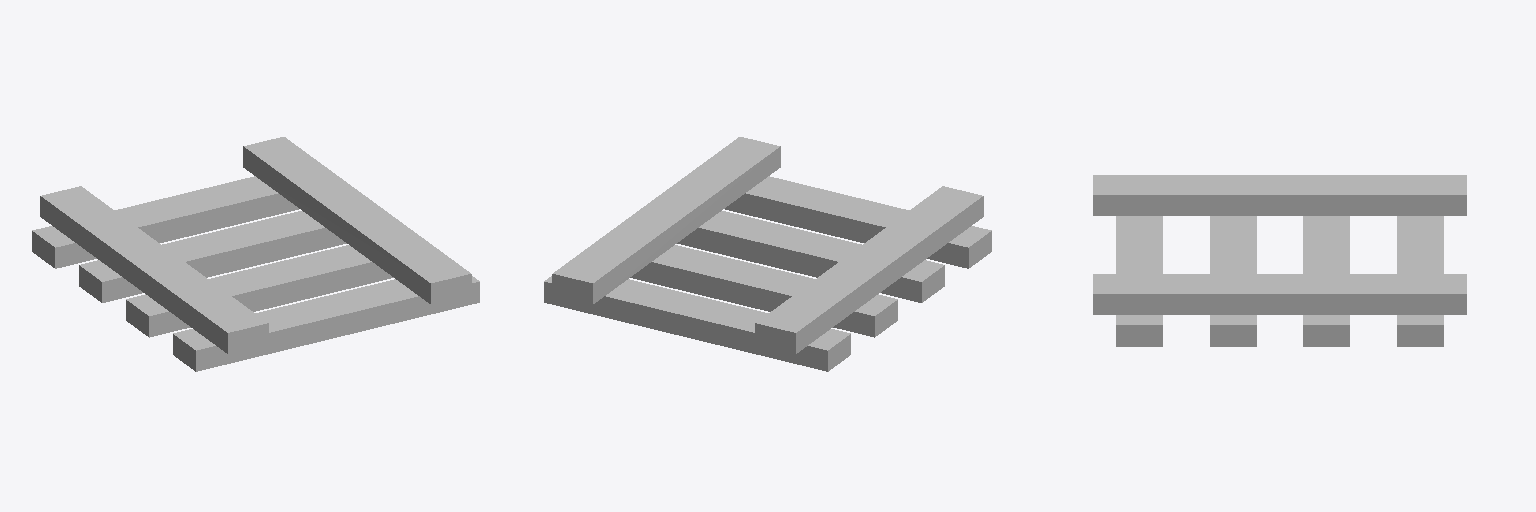
File: track_straight_axis.obj
3 views of the same model, side by side, from view 1: azimuth 30°, elevation 25°; view 2: azimuth 150°, elevation 25°; view 3: azimuth 270°, elevation 25° (orthographic).
Parts seen in each view (by area): view 1: track_straight_axis; view 2: track_straight_axis; view 3: track_straight_axis.
Boxes of the visible parts, <box> form: track_straight_axis: <box>32,137,479,371</box>; track_straight_axis: <box>544,137,991,371</box>; track_straight_axis: <box>1093,175,1466,346</box>.
Bounding box in the file's own units: 0.8747 × 0.125 × 0.9997.